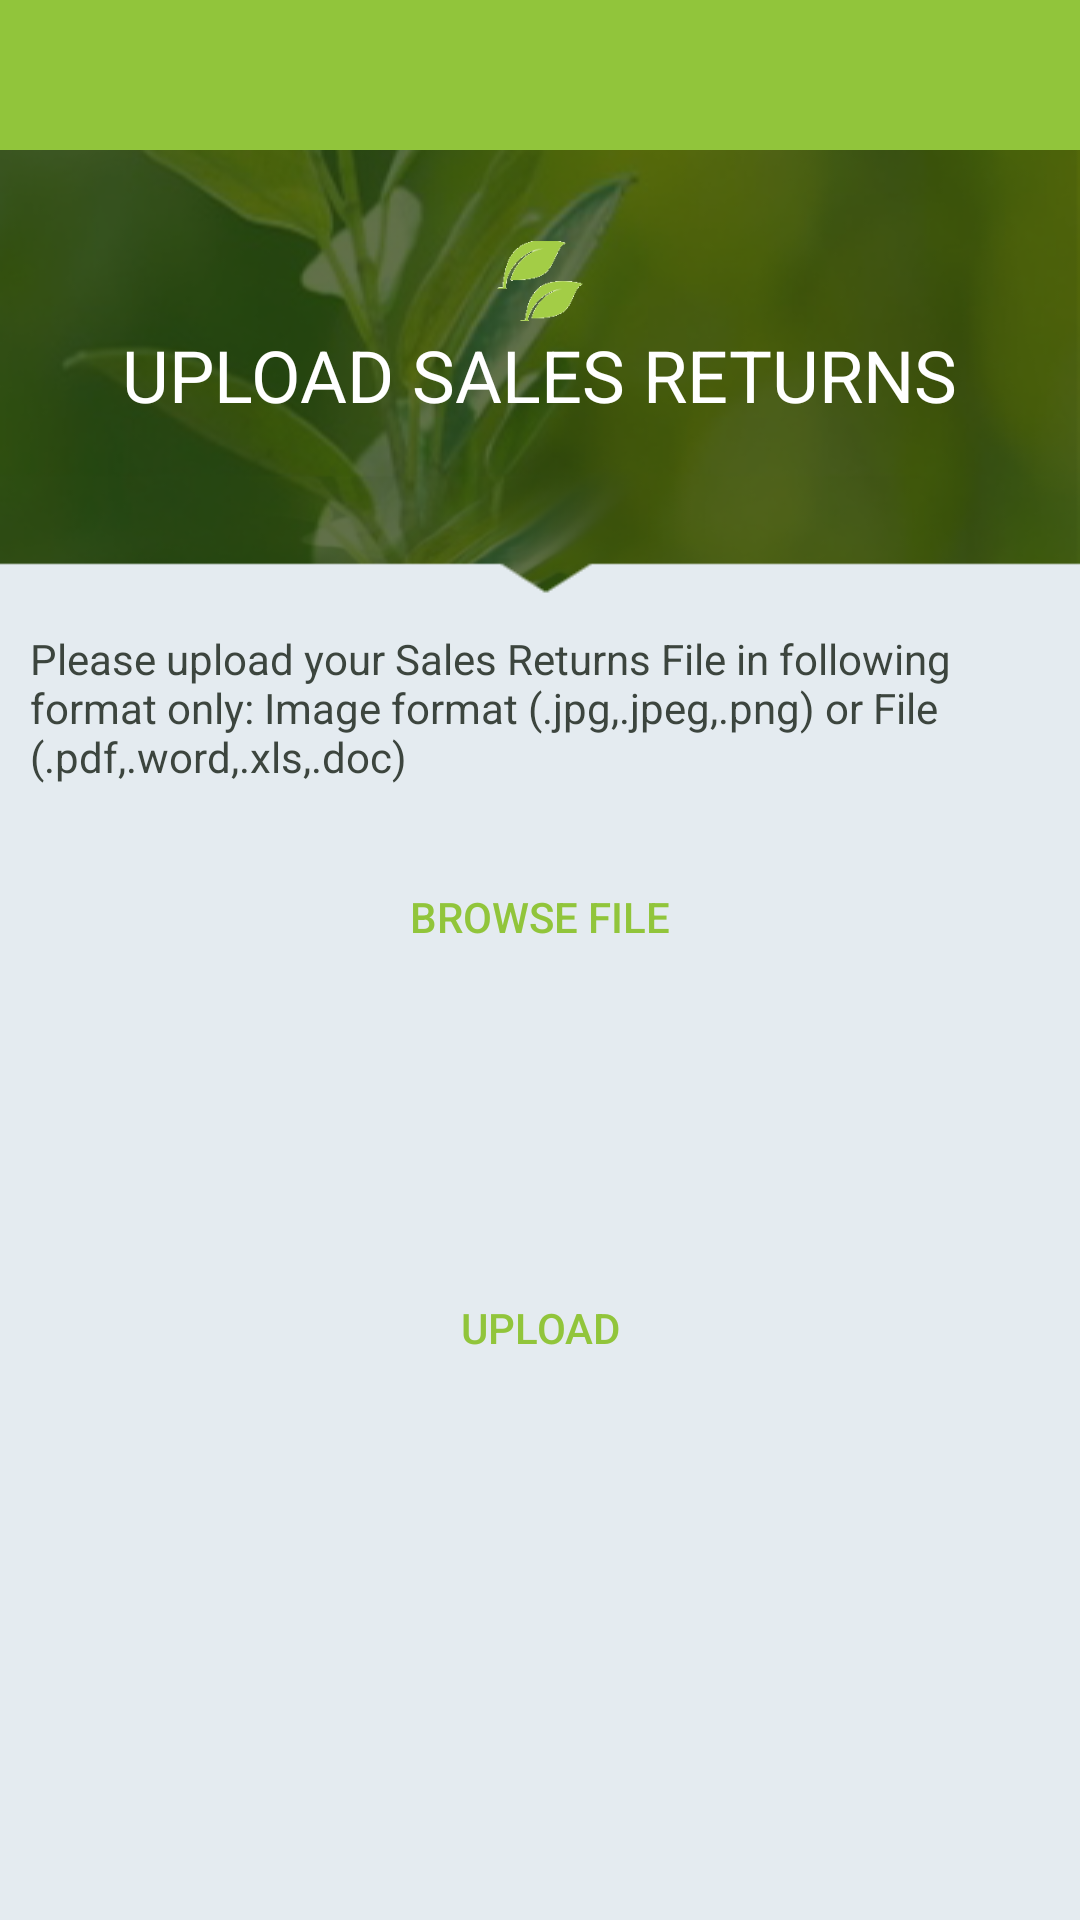

Screen size 1080px x 1920px. Icon name, then its center in pixels as point (x, y):
page nameleaf: point (540, 281)
